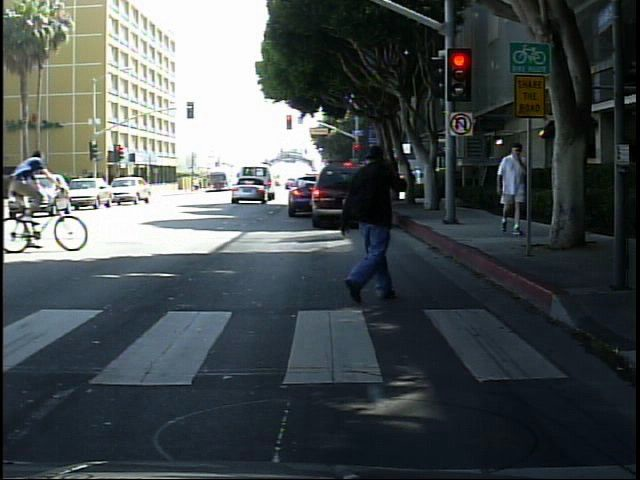person: (326, 129, 413, 316), (11, 138, 72, 244), (493, 141, 532, 238), (559, 138, 593, 245)
